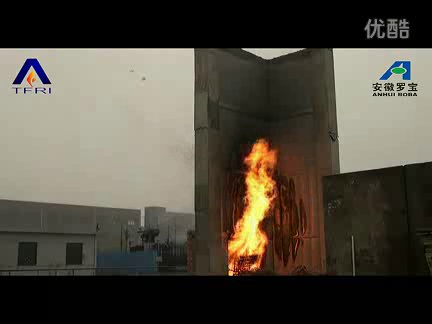fire: (224, 138, 284, 275)
